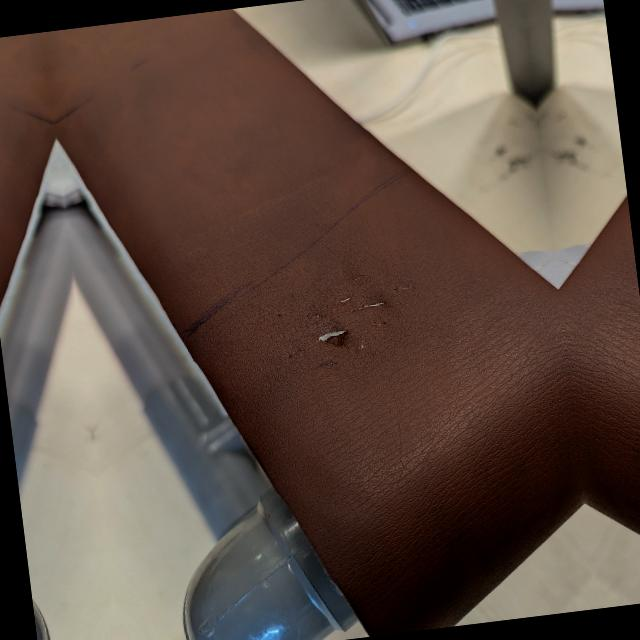belt_crack: (264, 251, 439, 395)
